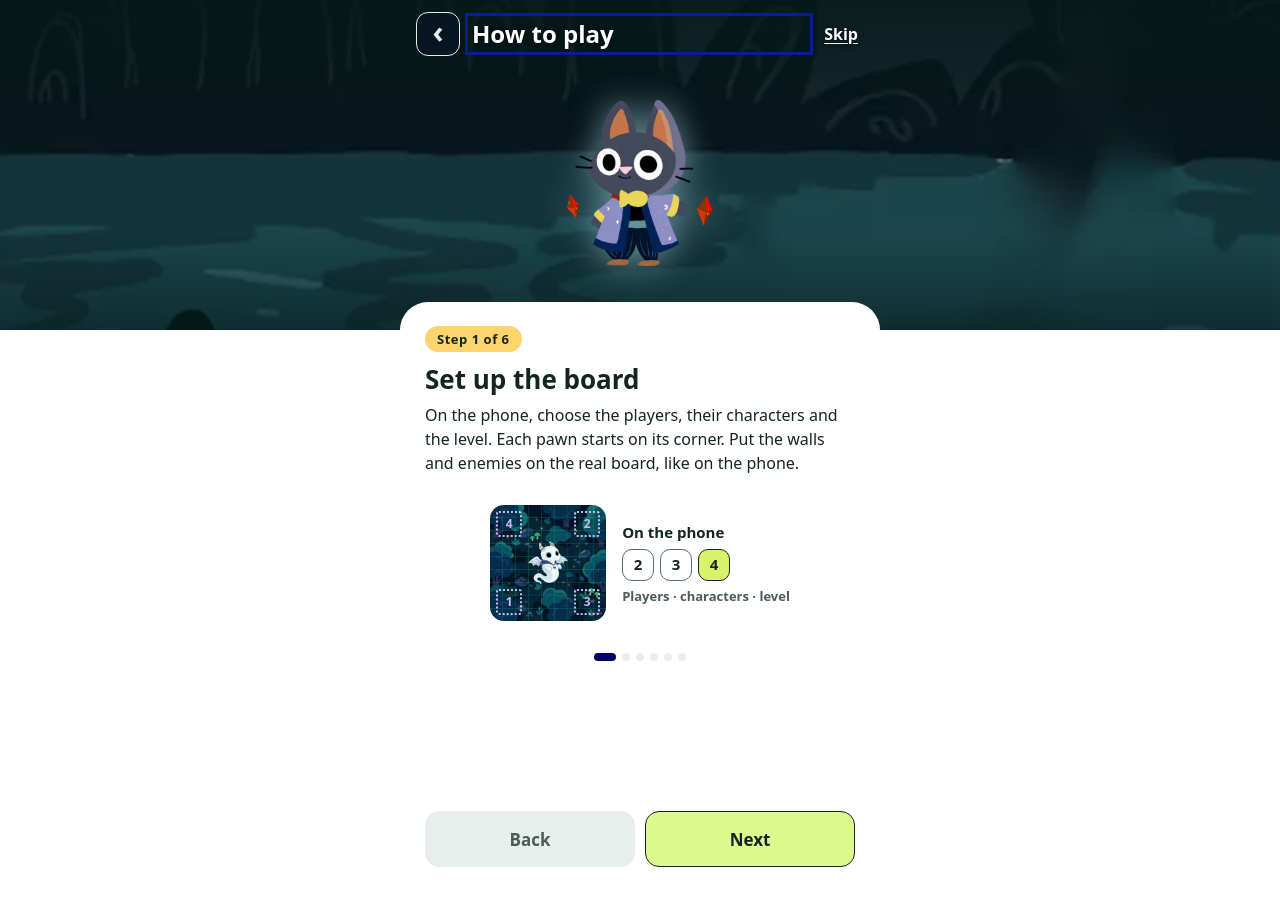
Test: HowToPlayScreen (D28) › swipe (D35) › swipe left: next step; swipe right: previous step; the new title gets focus
Press the mouse on the heading "Set up the board" at (532, 380), box [425,364,640,395]
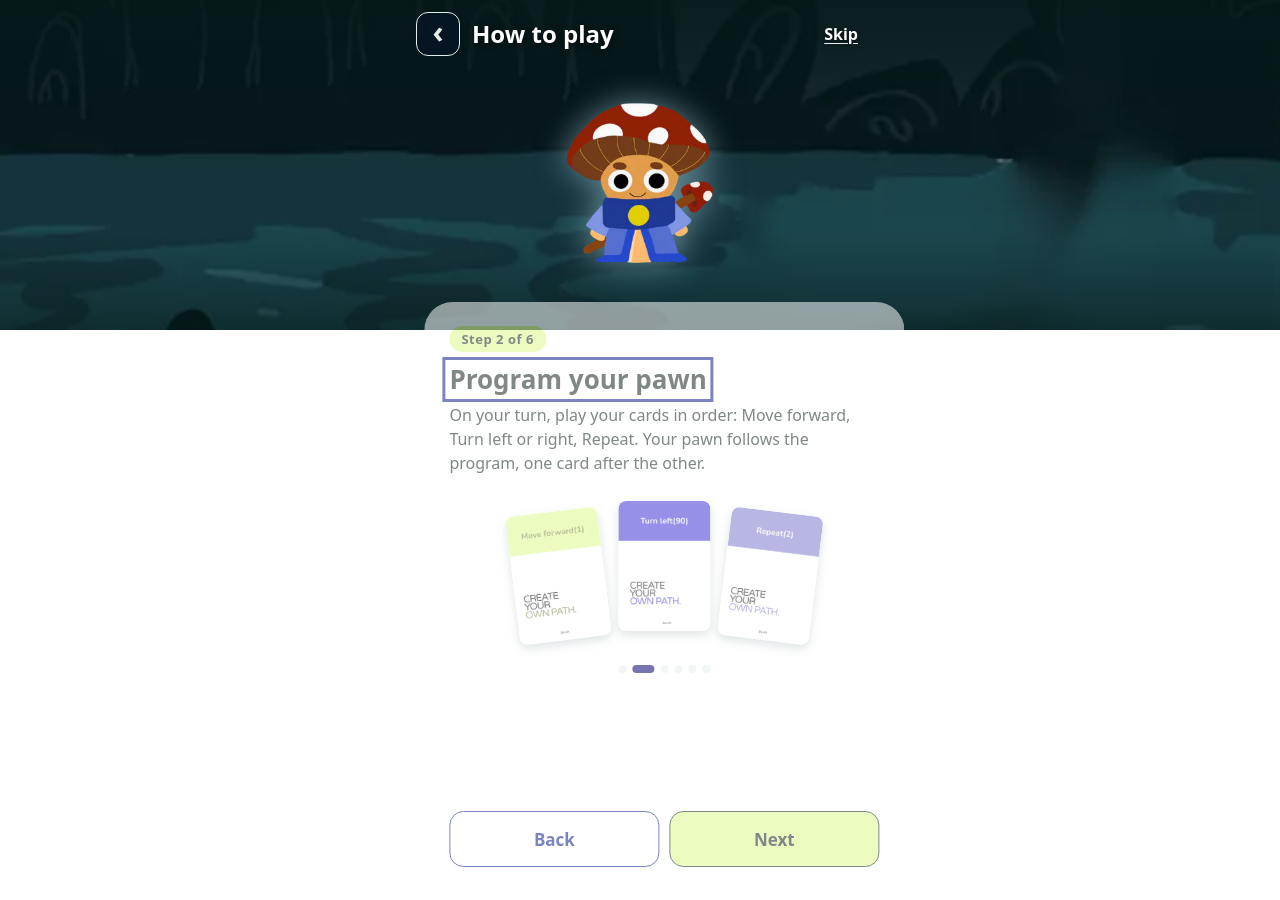
Now the text "Step 2 of 6" is shown, box [446,326,542,352]
Now the heading "Program your pawn" is shown
Press the mouse on the heading "Program your pawn" at (575, 380), box [446,364,703,395]
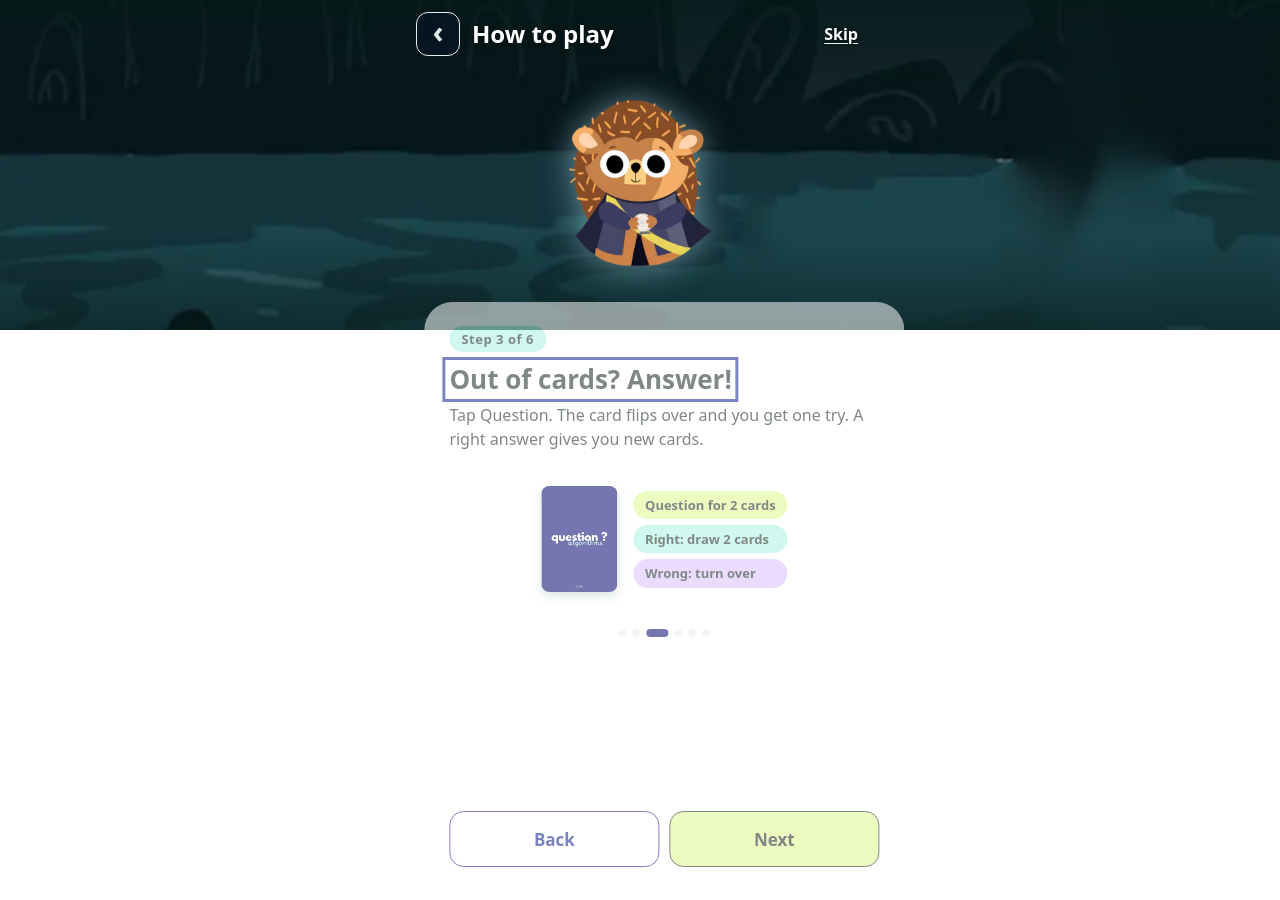
Now the text "Step 3 of 6" is shown, box [446,326,542,352]
Press the mouse on the heading "Out of cards? Answer!" at (587, 380), box [446,364,728,395]
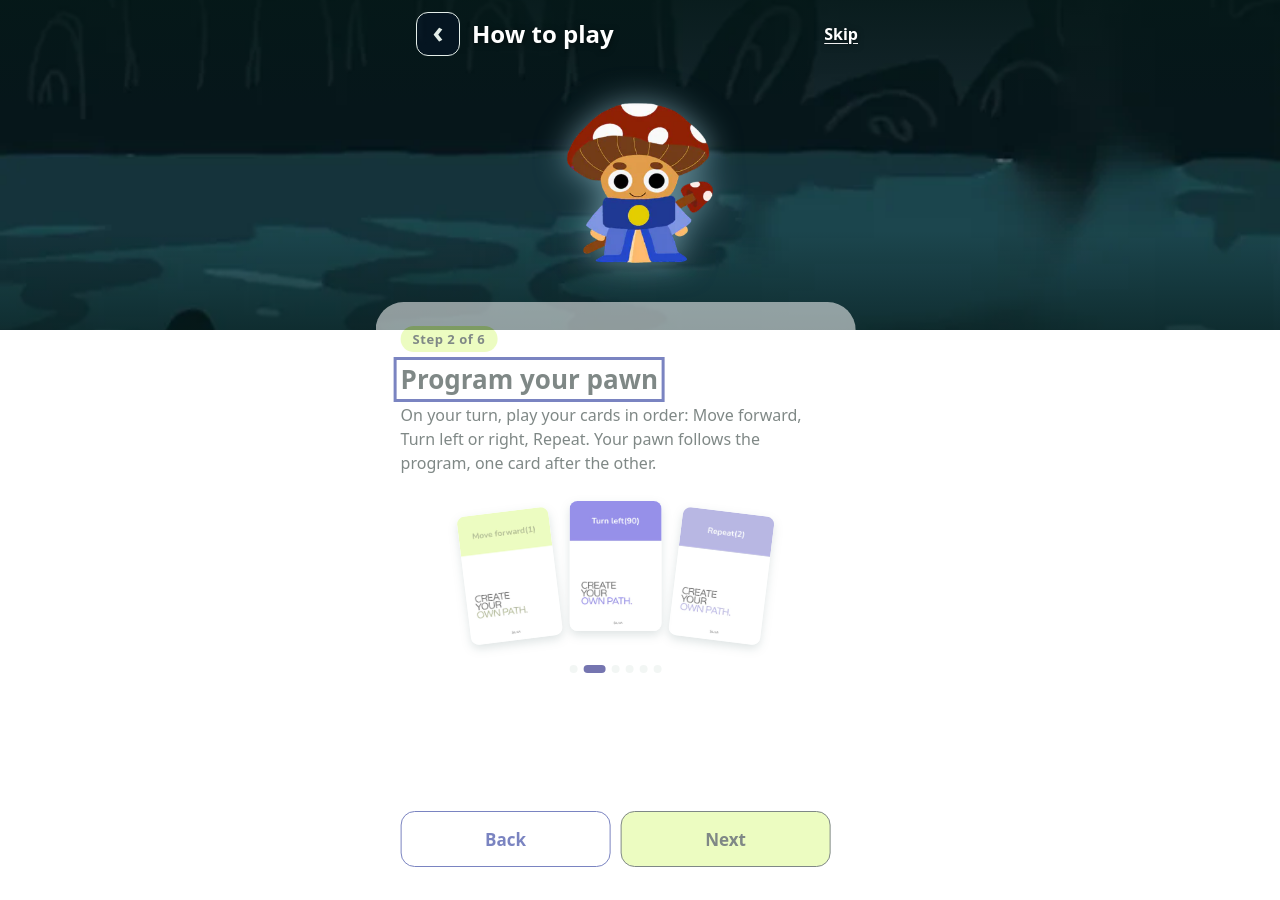
Now the text "Step 2 of 6" is shown, box [404,326,501,352]
